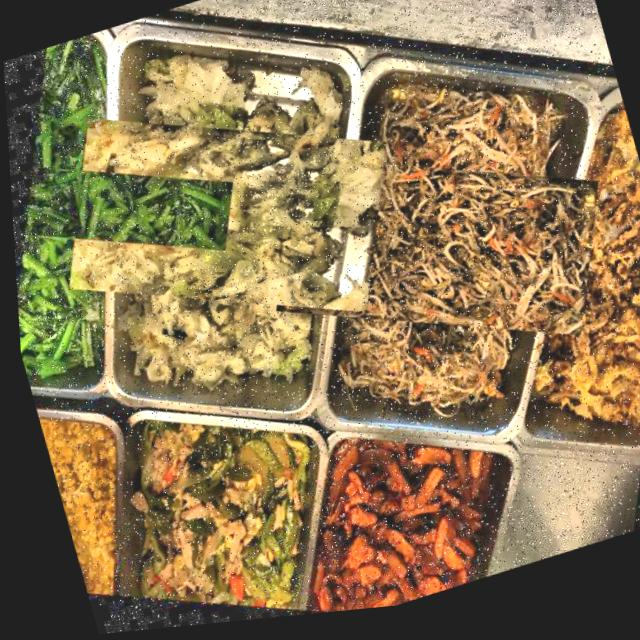Food: (34, 24, 414, 415), (246, 62, 619, 445), (4, 62, 220, 350)
